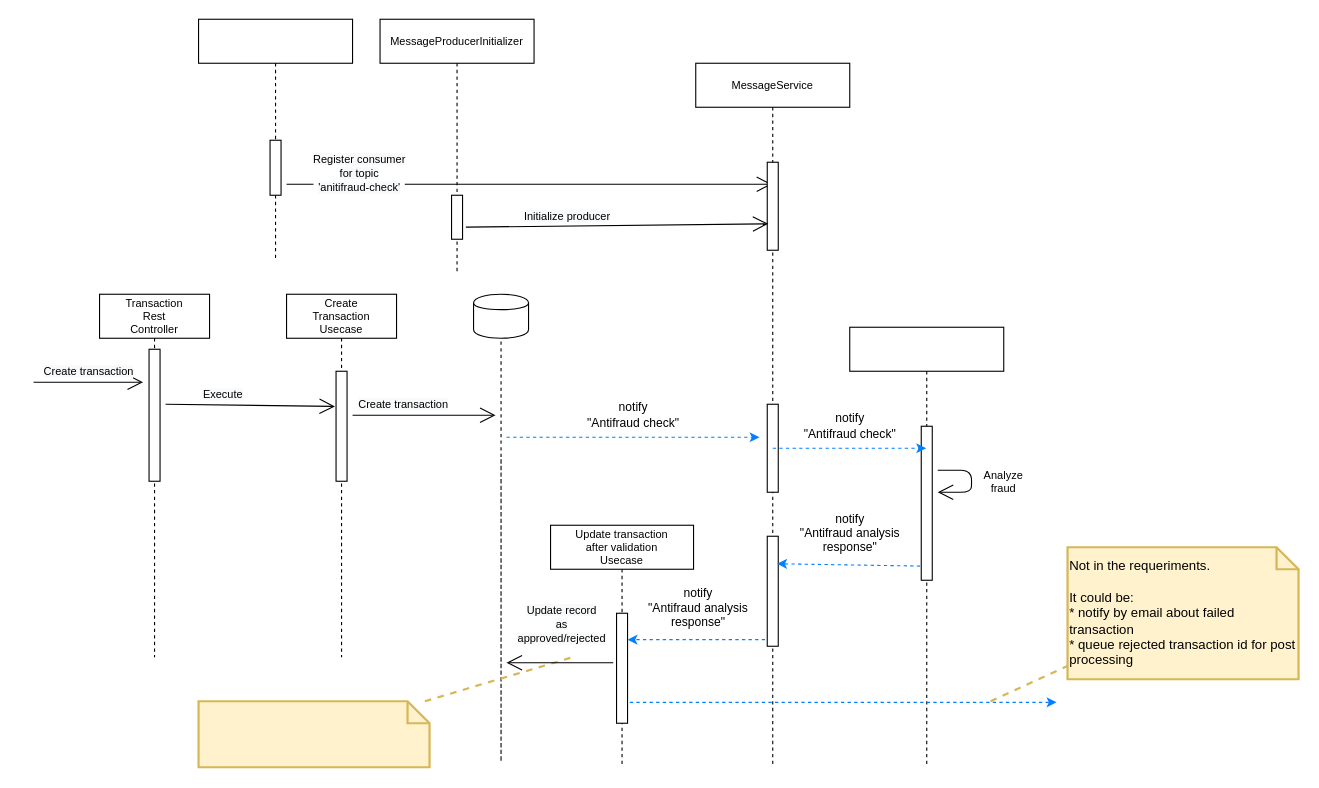
Some shapes in this 1319 by 788 pixel diagram are drawn without their labels. The shapes that lost their labels are listed below. From the top down, each one's box as (x1, y1, x2, y2) in pixels, then its label:
(197, 18, 353, 261): MessageConsumerController
(849, 326, 1004, 767): ANTIFRAUD MICROSERVICE
(197, 700, 430, 768): To tackle a huge amount of writes: update using optimistic concurrency
